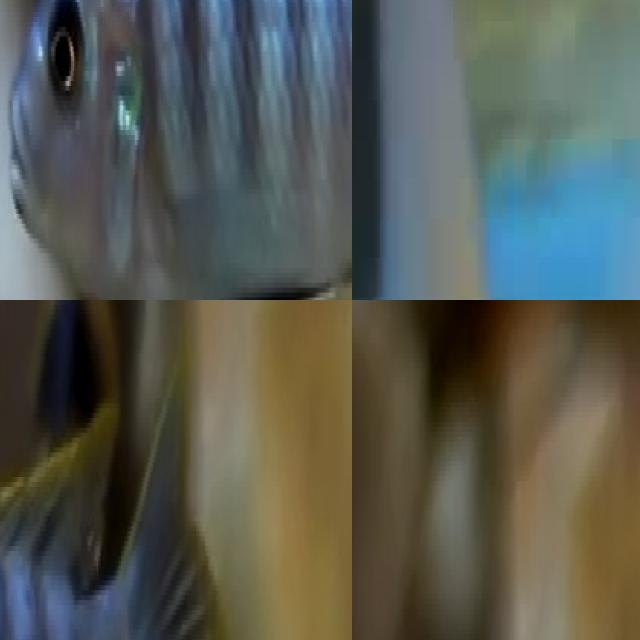fish: (0, 0, 352, 300), (352, 300, 640, 432), (15, 300, 146, 452)
